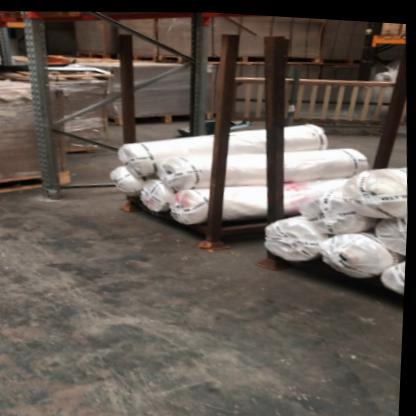vertical_damage: (33, 176, 73, 205)
